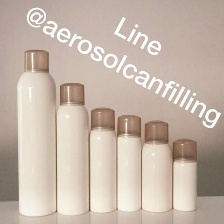bottle: (13, 46, 63, 219), (52, 78, 94, 219), (85, 104, 119, 215), (139, 117, 176, 215), (112, 113, 145, 213), (169, 134, 201, 215)
